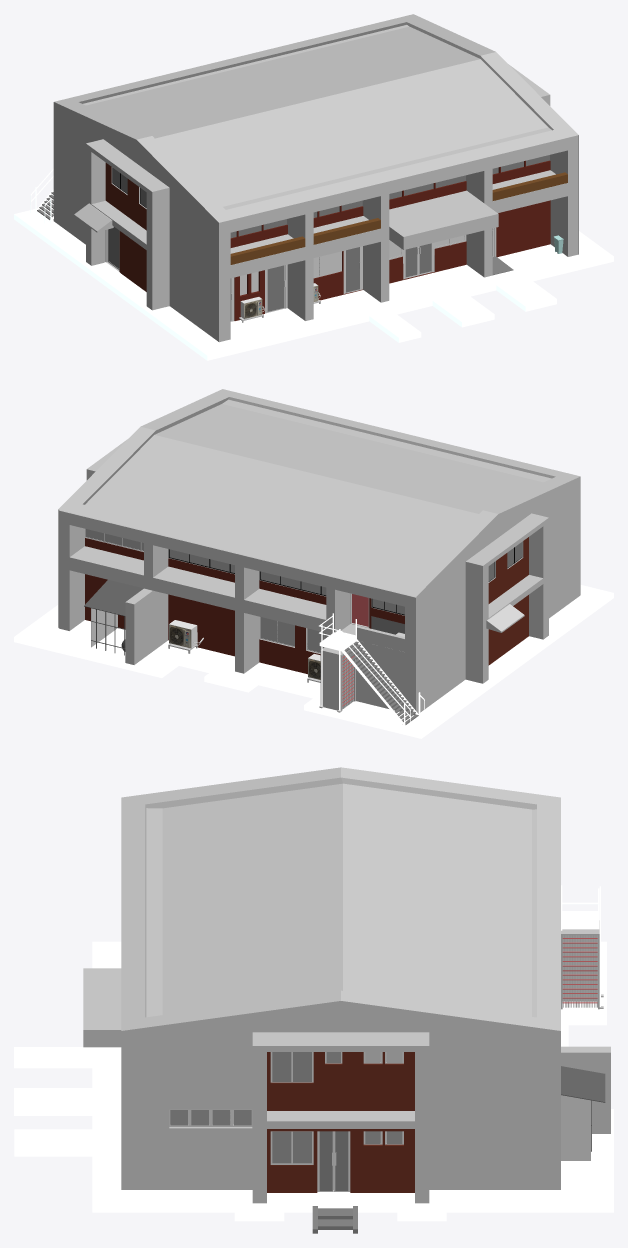
File: DispensarioMedicoV23.fbx
3 renders of one model, top to bottom at view 1: azimuth 30°, elevation 25°; view 2: azimuth 150°, elevation 25°; view 3: azimuth 270°, elevation 25°, orthographic. The views are drawn at different scales.
Visible parts, largest first — view 1: Cube.003, Cube.043, Plane.003, Cube.069, Ladrillos, Cube.051, Cube.071, Cube.049, polySurface2.002; view 2: Cube.003, Cube.051, Plane.003, Cube.069, Cube.043, Cube.057, Cube.066, Cube.054, Cube.056, polySurface2, Cube.063, Cube.071 (+1 smaller); view 3: Cube.003, Plane.003, Cube.027, Cube.043, Cube.051, Cube.061, Cube.063, Cube.066, Cube.030, Cube.029, Cube.042, Cube.034 (+4 smaller).
Boxes of the visible parts, x1,y1,x2,y2 form: Cube.003: (53, 14, 578, 341); Cube.043: (219, 127, 578, 342); Plane.003: (14, 204, 613, 360); Cube.069: (86, 139, 169, 310); Ladrillos: (230, 172, 567, 264); Cube.051: (83, 25, 408, 105); Cube.071: (74, 203, 113, 232); Cube.049: (313, 251, 341, 277); polySurface2.002: (240, 283, 320, 319); Cube.003: (58, 389, 580, 713); Cube.051: (59, 510, 416, 715); Plane.003: (14, 585, 613, 738); Cube.069: (465, 513, 548, 683); Cube.043: (222, 399, 551, 482); Cube.057: (344, 641, 418, 724); Cube.066: (84, 579, 143, 616); Cube.054: (261, 617, 326, 652); Cube.056: (319, 631, 420, 727); polySurface2: (169, 620, 320, 679); Cube.063: (91, 608, 117, 647); Cube.071: (486, 604, 524, 632); Cube.003: (121, 767, 560, 1189); Plane.003: (14, 941, 613, 1221); Cube.027: (252, 1032, 429, 1203); Cube.043: (83, 808, 162, 1047); Cube.051: (532, 809, 610, 1133); Cube.061: (563, 935, 597, 1007); Cube.063: (561, 1095, 590, 1160); Cube.066: (561, 1066, 605, 1102); Cube.030: (272, 1131, 311, 1163); Cube.029: (272, 1052, 311, 1081); Cube.042: (170, 1110, 251, 1125); Cube.034: (334, 1131, 350, 1191).
Bounding box in the file's own units: 3.37 × 1.07 × 2.94.
Materials: 16 (2 with a texture image).
